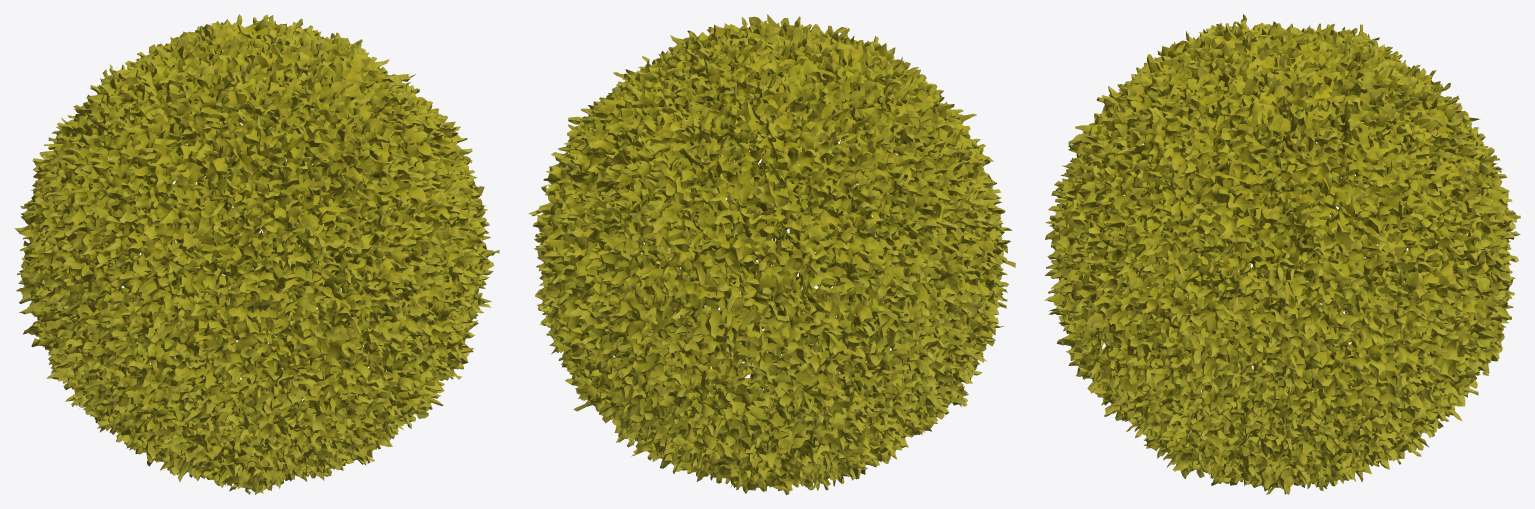
File: moss-cushion-v18.glb
3 views of the same model, side by side, from view 1: azimuth 30°, elevation 25°; view 2: azimuth 150°, elevation 25°; view 3: azimuth 270°, elevation 25° (orthographic).
Visible parts, largest first — view 1: geometry_0; view 2: geometry_0; view 3: geometry_0.
Part boxes in pixels (box(x1,y1,x2,y2)): geometry_0: box(14, 14, 499, 494); geometry_0: box(528, 14, 1015, 494); geometry_0: box(1044, 14, 1520, 494).
Bounding box in the file's own units: 0.3 × 0.293 × 0.2984.
1 material, 1 textured.
